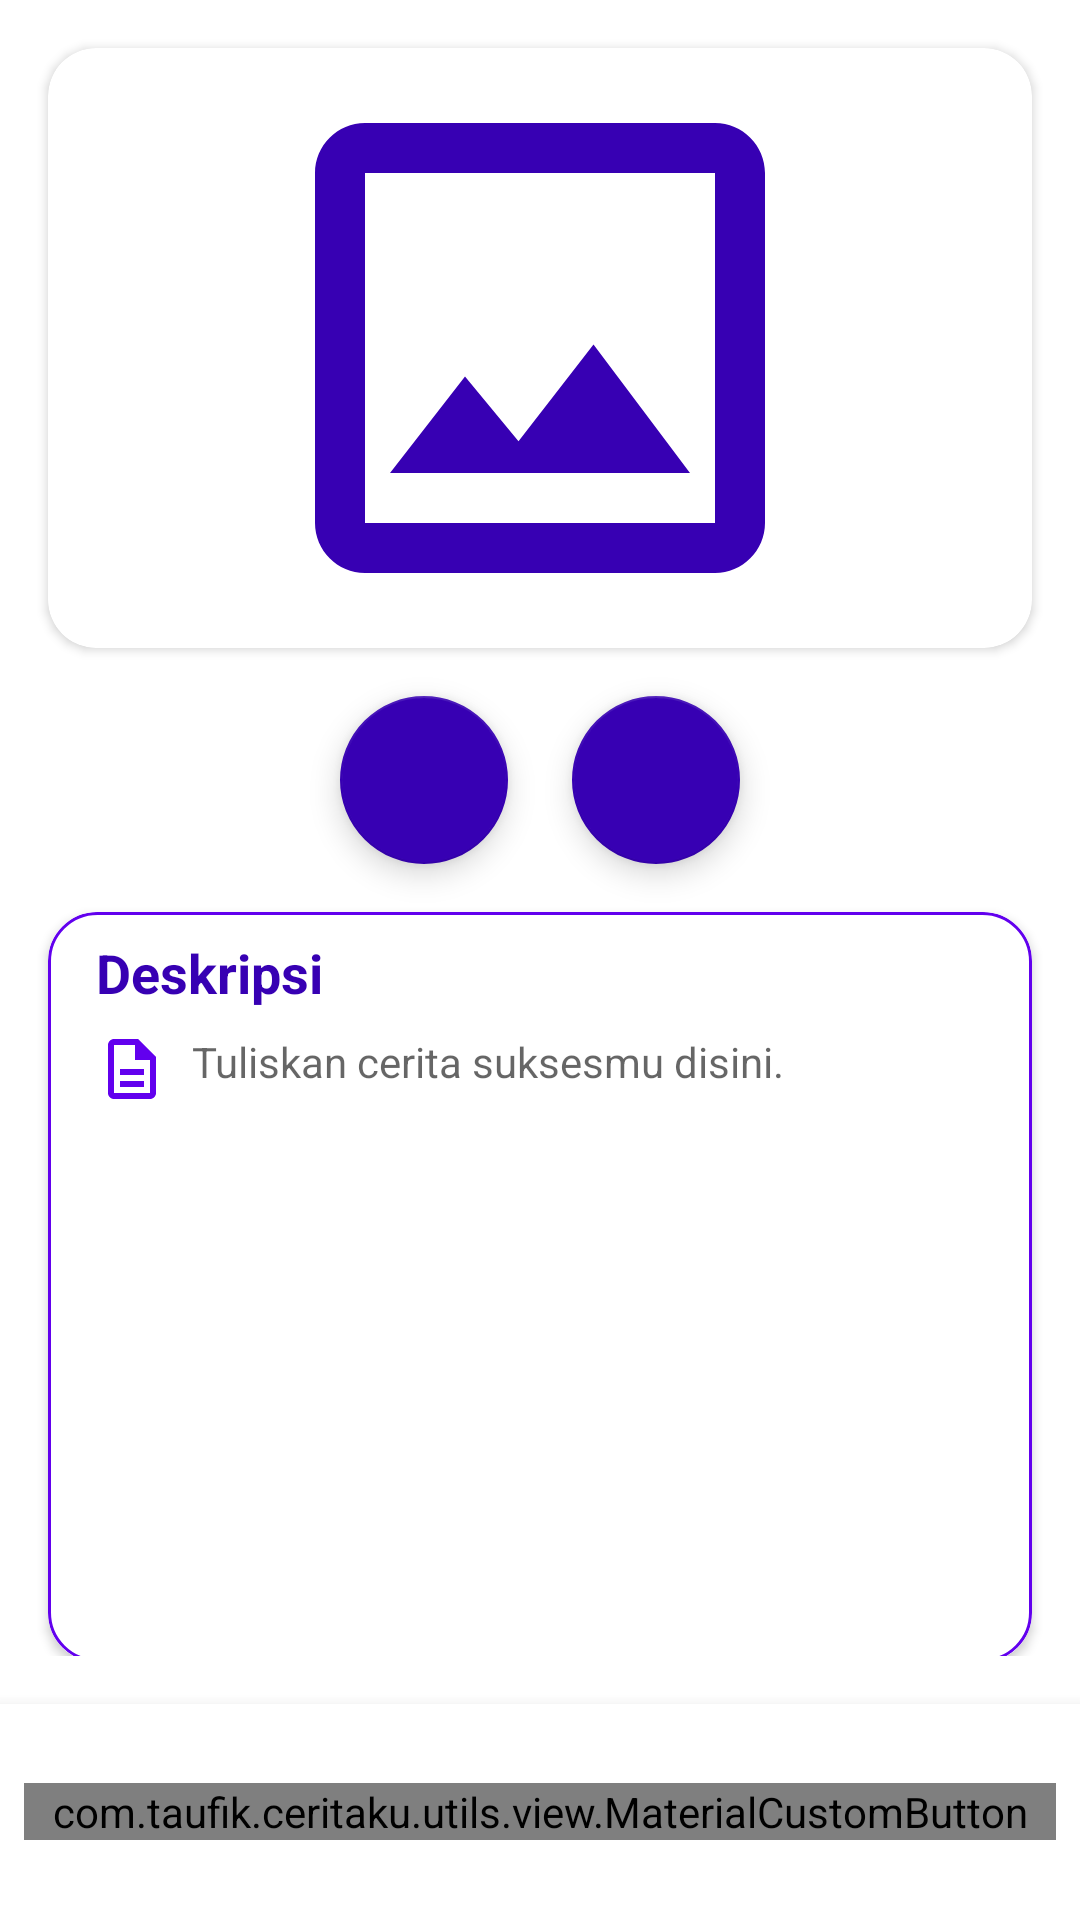

Screen size 1080*1920. Icon name, then its box in pixels as (left=x1, top=y1, right=x2, bottom=y2):
description: (left=108, top=1039, right=156, bottom=1099)
